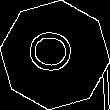O_E: (27, 30, 83, 80)
